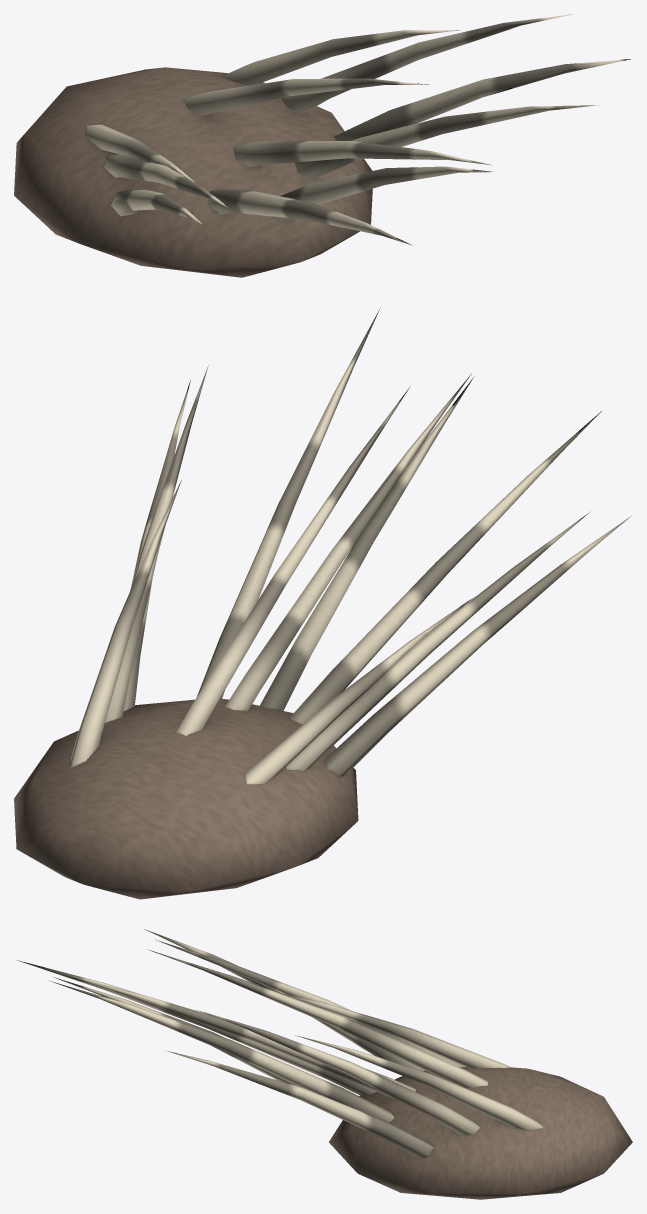
The model's file is cpart_quills.glb.
The picture shows the model from 3 angles, top to bottom: view 1: azimuth 30°, elevation 25°; view 2: azimuth 150°, elevation 25°; view 3: azimuth 270°, elevation 25°; orthographic projection. The views are drawn at different scales.
Parts seen in each view (by area): view 1: Quills; view 2: Quills; view 3: Quills.
Part boxes in pixels (x1,y1,x2,y2): Quills: (14,14,630,277); Quills: (14,307,630,899); Quills: (16,929,632,1199).
Size of the model in its own units: 0.1443 by 0.0911 by 0.2441.
Materials: 2 (2 with a texture image).
